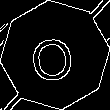O_N: (30, 27, 80, 83)
